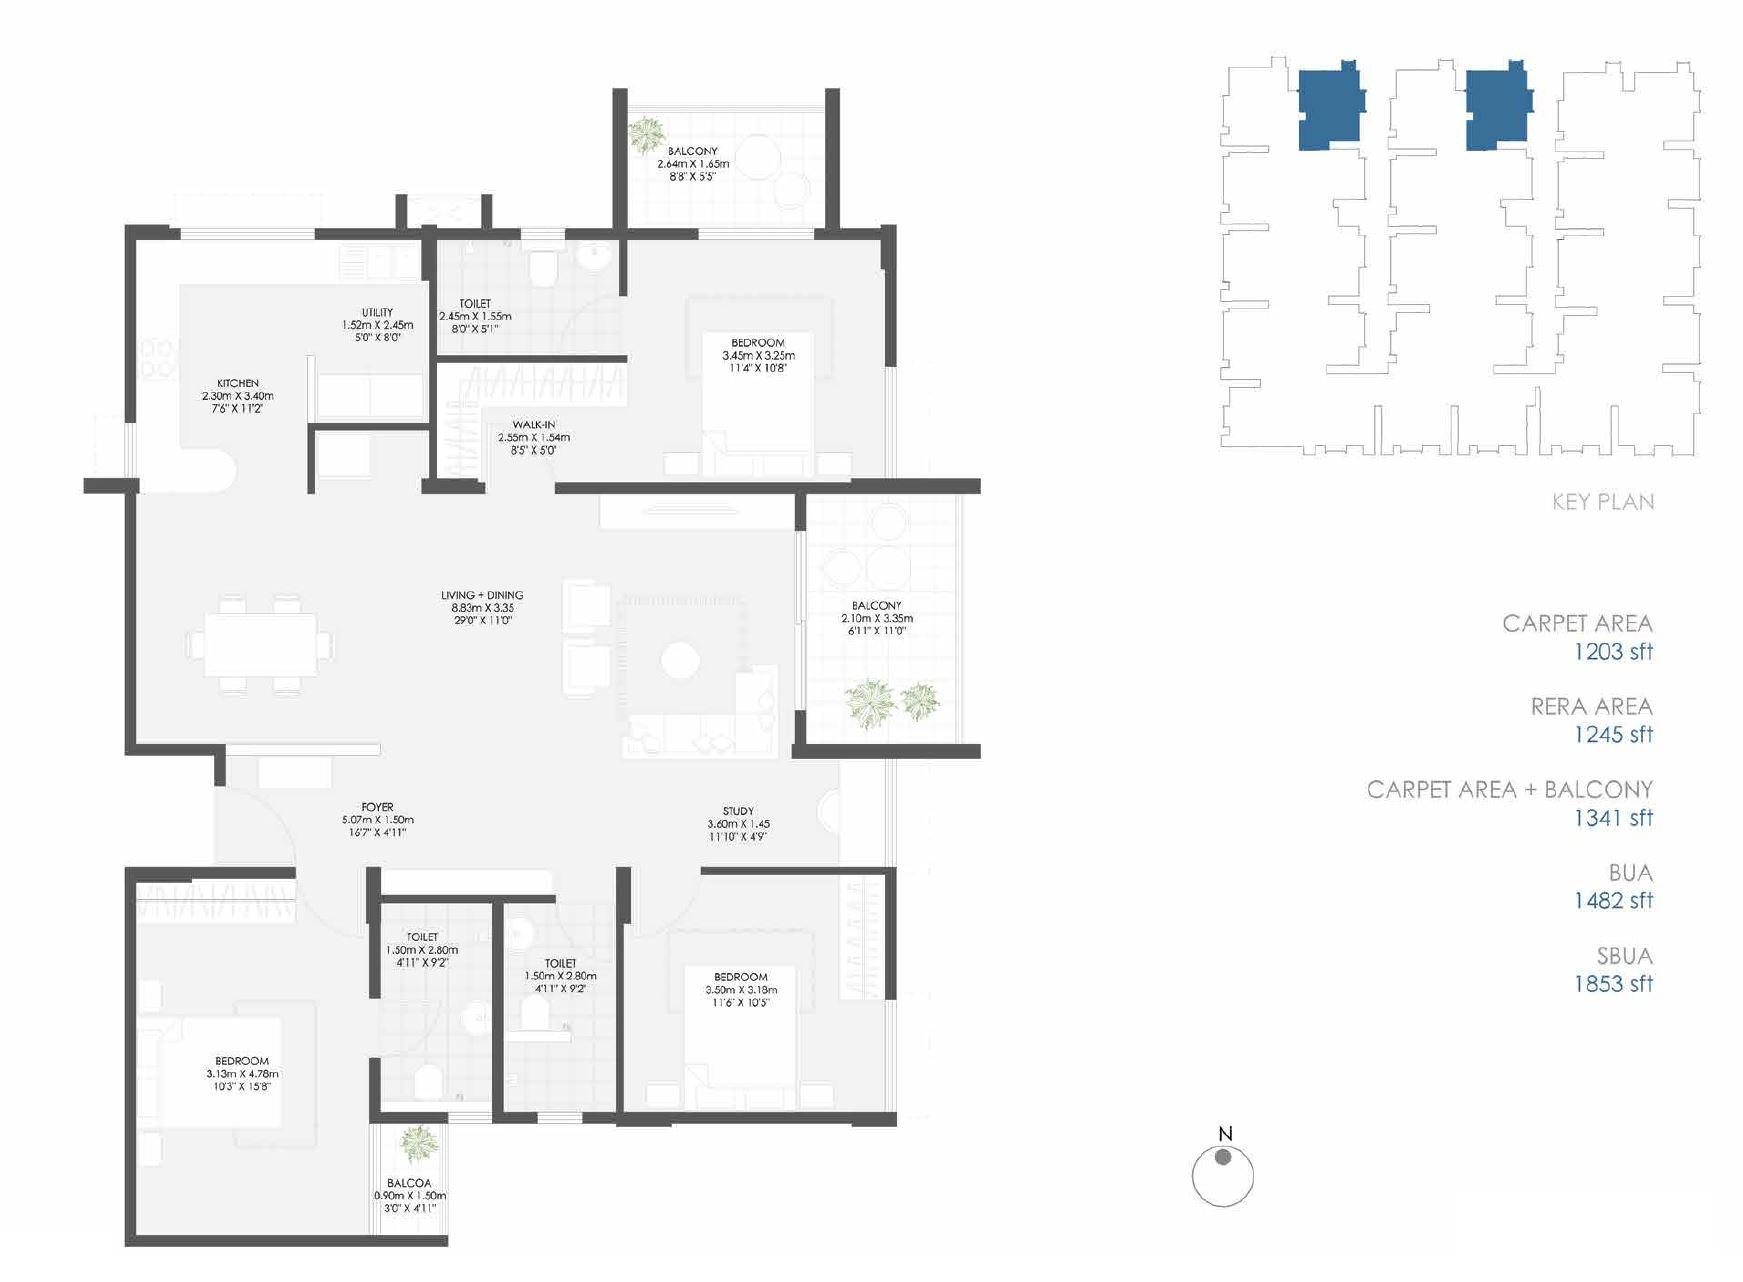Balcony: (801, 493, 964, 751), (625, 106, 831, 236)
Bedroom: (134, 876, 376, 1239), (617, 869, 888, 1121), (625, 238, 886, 482)
Dining Room: (135, 498, 497, 745)
Dining table: (179, 583, 348, 708)
Foyer: (221, 751, 614, 869)
Kitchen: (135, 238, 306, 491)
Living Room: (491, 494, 797, 751)
Wardrobe: (437, 363, 625, 405), (134, 881, 294, 922), (838, 875, 886, 998), (433, 360, 479, 481)
balcoa: (375, 1120, 443, 1233)
door: (221, 789, 303, 866), (635, 866, 706, 946), (786, 524, 816, 713), (296, 869, 369, 946), (555, 294, 631, 361), (489, 421, 556, 490), (556, 896, 618, 971)
fridge: (314, 429, 375, 479)
study: (613, 750, 892, 865)
toilet: (499, 900, 618, 1121), (379, 900, 498, 1115), (432, 238, 620, 355)
utility: (314, 227, 424, 421)
walkin: (434, 363, 620, 485)
washing-machine: (321, 371, 424, 418)
